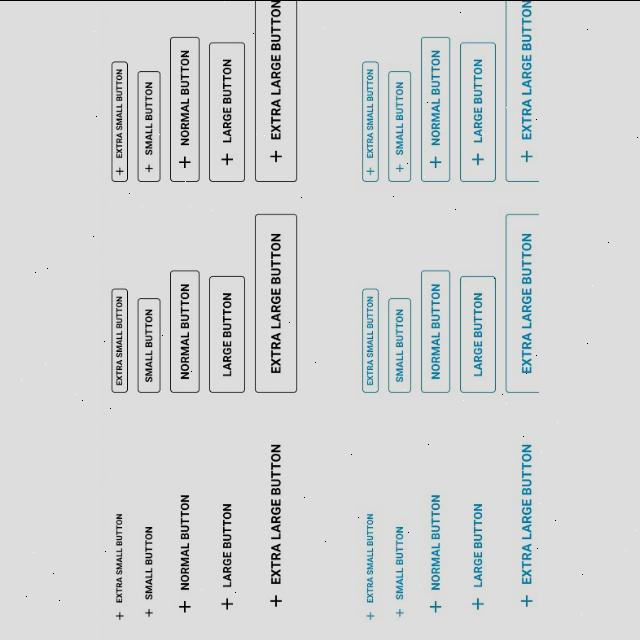QLabel: (520, 226, 532, 378), (270, 228, 282, 378), (270, 444, 282, 588), (270, 0, 282, 144), (520, 0, 532, 144), (520, 442, 532, 584), (430, 281, 440, 383), (180, 282, 190, 382), (179, 49, 189, 149), (430, 47, 440, 146), (180, 496, 190, 592), (430, 496, 440, 592), (472, 286, 482, 379), (472, 55, 482, 147), (222, 287, 232, 378), (222, 501, 232, 591), (222, 56, 232, 146), (472, 500, 482, 588), (115, 67, 124, 161), (144, 304, 154, 386), (394, 303, 404, 385), (115, 512, 124, 602), (144, 522, 154, 602), (394, 78, 404, 158), (115, 292, 123, 388), (366, 66, 374, 160), (366, 293, 374, 387), (365, 512, 373, 604), (144, 78, 152, 158), (395, 523, 403, 601)
VBtn: (254, 0, 298, 182), (254, 213, 298, 393), (504, 213, 540, 393), (504, 0, 538, 182), (458, 40, 498, 182), (208, 40, 246, 182), (458, 274, 498, 392), (169, 35, 201, 182), (420, 36, 452, 182), (208, 274, 246, 392), (169, 268, 201, 392), (419, 269, 451, 393), (136, 69, 162, 181), (387, 70, 413, 182), (136, 296, 162, 392), (360, 60, 380, 182), (388, 296, 412, 394), (110, 60, 128, 182), (110, 287, 130, 393), (362, 287, 381, 393)
VIcon: (220, 597, 234, 609), (178, 600, 190, 612), (270, 594, 282, 606), (179, 155, 191, 167), (472, 597, 483, 609), (520, 594, 532, 604), (222, 153, 232, 165), (430, 600, 440, 612), (270, 150, 282, 160), (430, 155, 440, 167), (472, 153, 482, 165), (520, 150, 532, 160), (366, 610, 374, 620), (115, 611, 124, 619), (145, 608, 153, 616), (396, 608, 404, 616), (145, 164, 153, 172), (116, 167, 124, 175), (366, 167, 374, 175), (396, 163, 402, 171)
